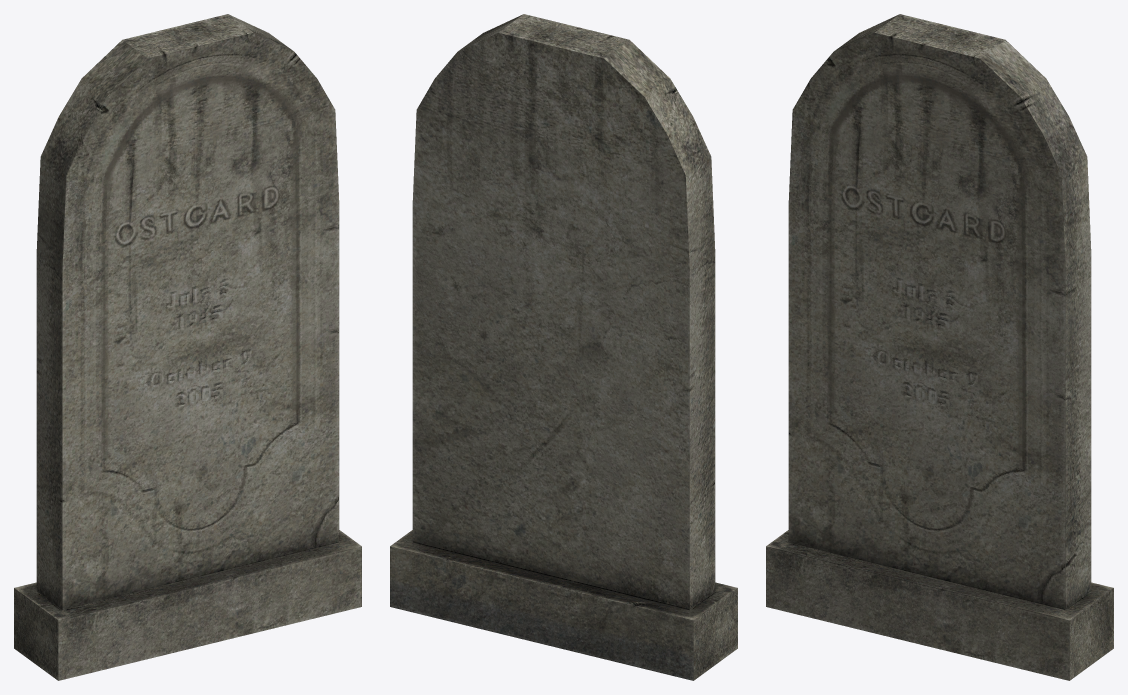
The model's file is Gravestone04.dae.
The picture shows the model from 3 angles, left to right: view 1: azimuth 30°, elevation 25°; view 2: azimuth 150°, elevation 25°; view 3: azimuth 330°, elevation 25°; orthographic projection.
Visible parts, largest first — view 1: Gravestone04; view 2: Gravestone04; view 3: Gravestone04.
Part boxes in pixels (box(x1,y1,x2,y2)): Gravestone04: box(14, 14, 361, 680); Gravestone04: box(390, 14, 737, 680); Gravestone04: box(766, 14, 1113, 680).
Bounding box in the file's own units: 0.7248 × 0.1834 × 1.35.
